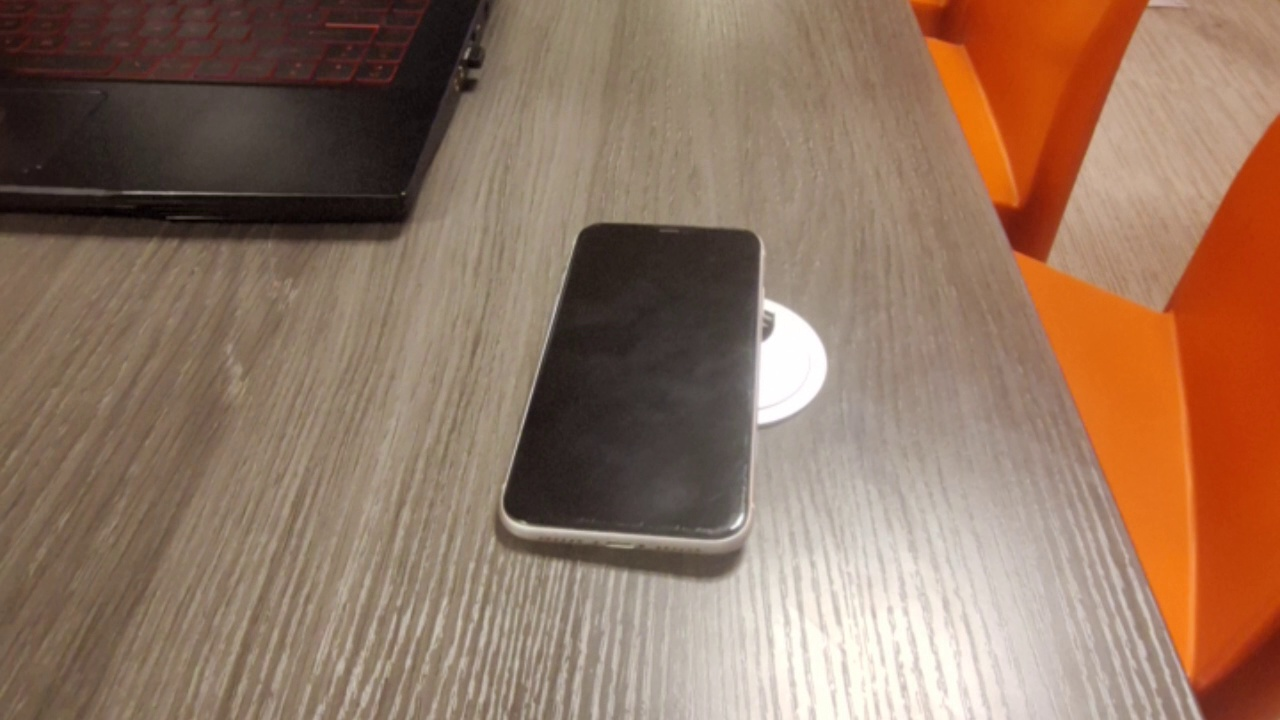celular: (497, 223, 764, 569)
